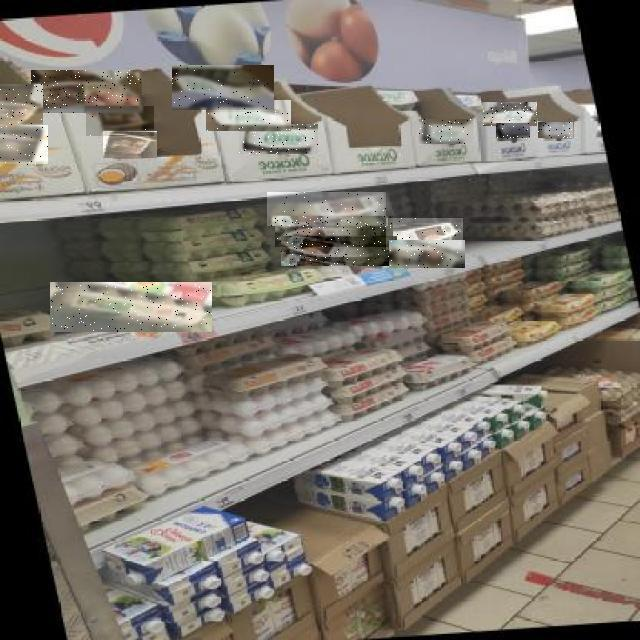Eggs: (50, 282, 212, 332), (32, 70, 144, 113), (172, 66, 274, 112), (268, 192, 388, 226), (275, 216, 393, 247), (281, 236, 397, 266), (206, 100, 291, 131), (386, 218, 463, 250), (239, 124, 318, 154), (389, 240, 465, 268), (0, 84, 43, 133), (86, 106, 154, 136), (0, 126, 48, 166), (103, 131, 157, 158), (419, 119, 473, 144), (483, 102, 537, 126), (538, 122, 573, 138), (496, 124, 530, 140)
